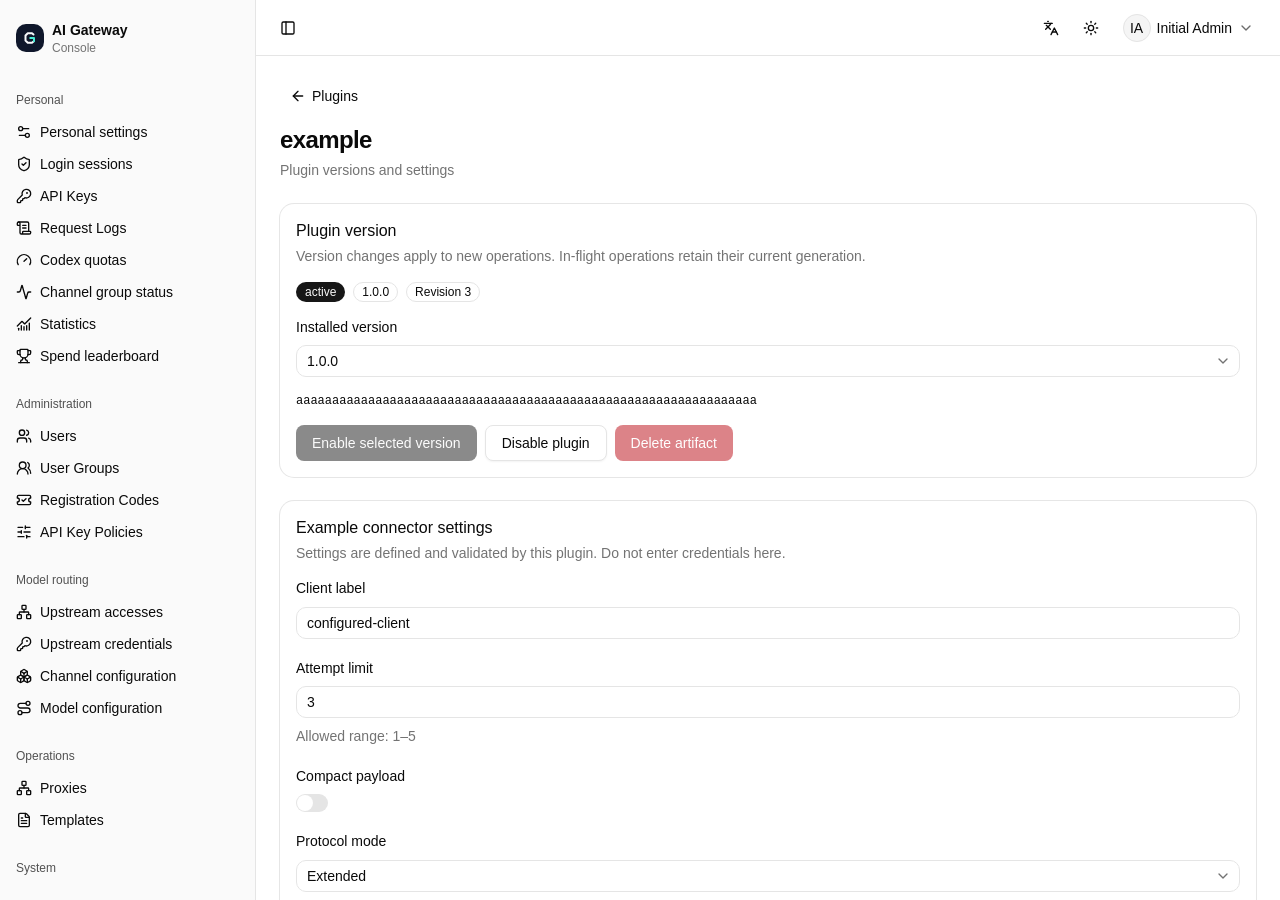
Test: Plugin management › never mutates after failed password verification and clears the password
Click the button "Disable plugin" at x=546, y=443, box [485,425,607,461]
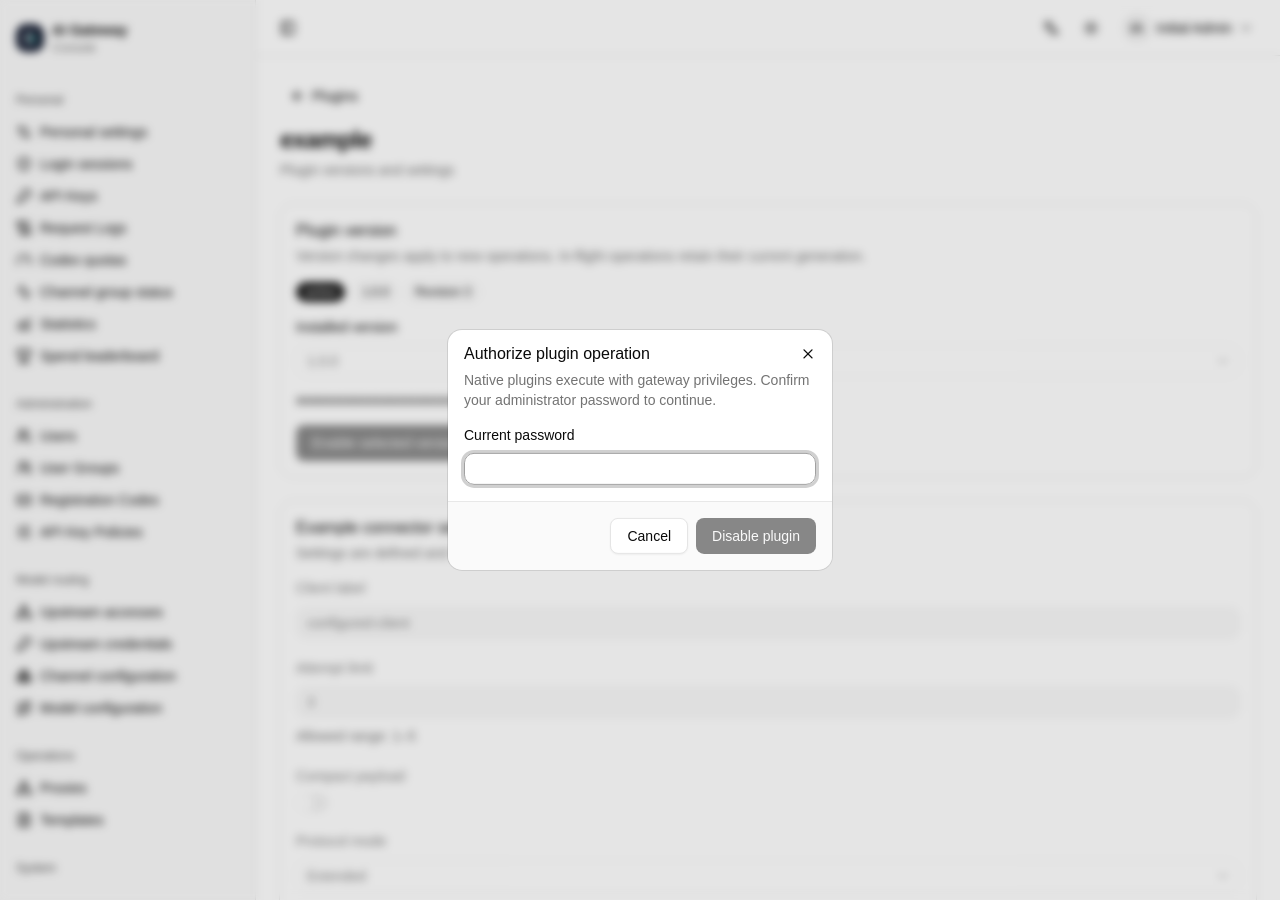
Type "administrator-password" into the password field labelled "Current password" at x=640, y=469, box [464,453,816,485]
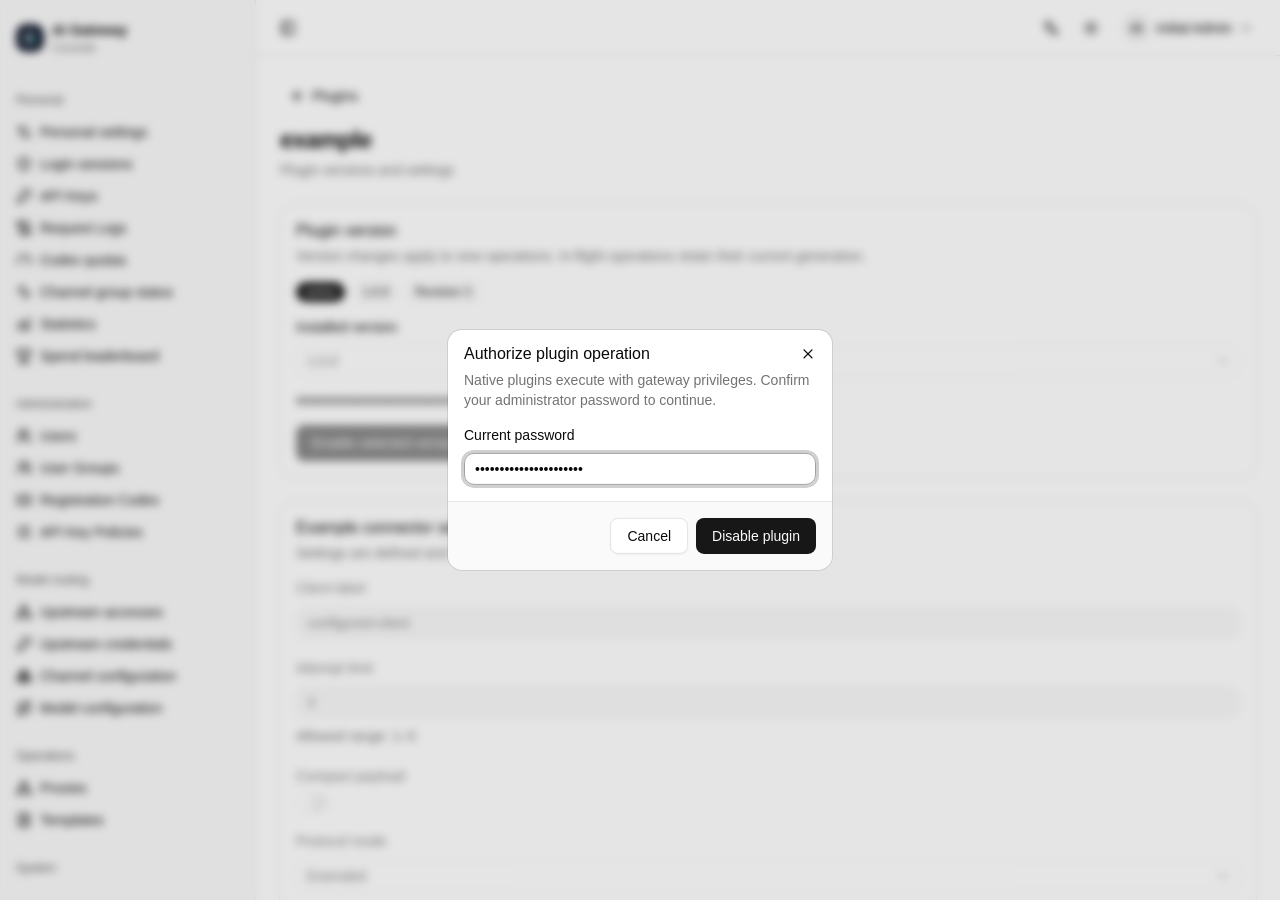
Click the button "Disable plugin" at x=756, y=536, box [696,518,816,554]
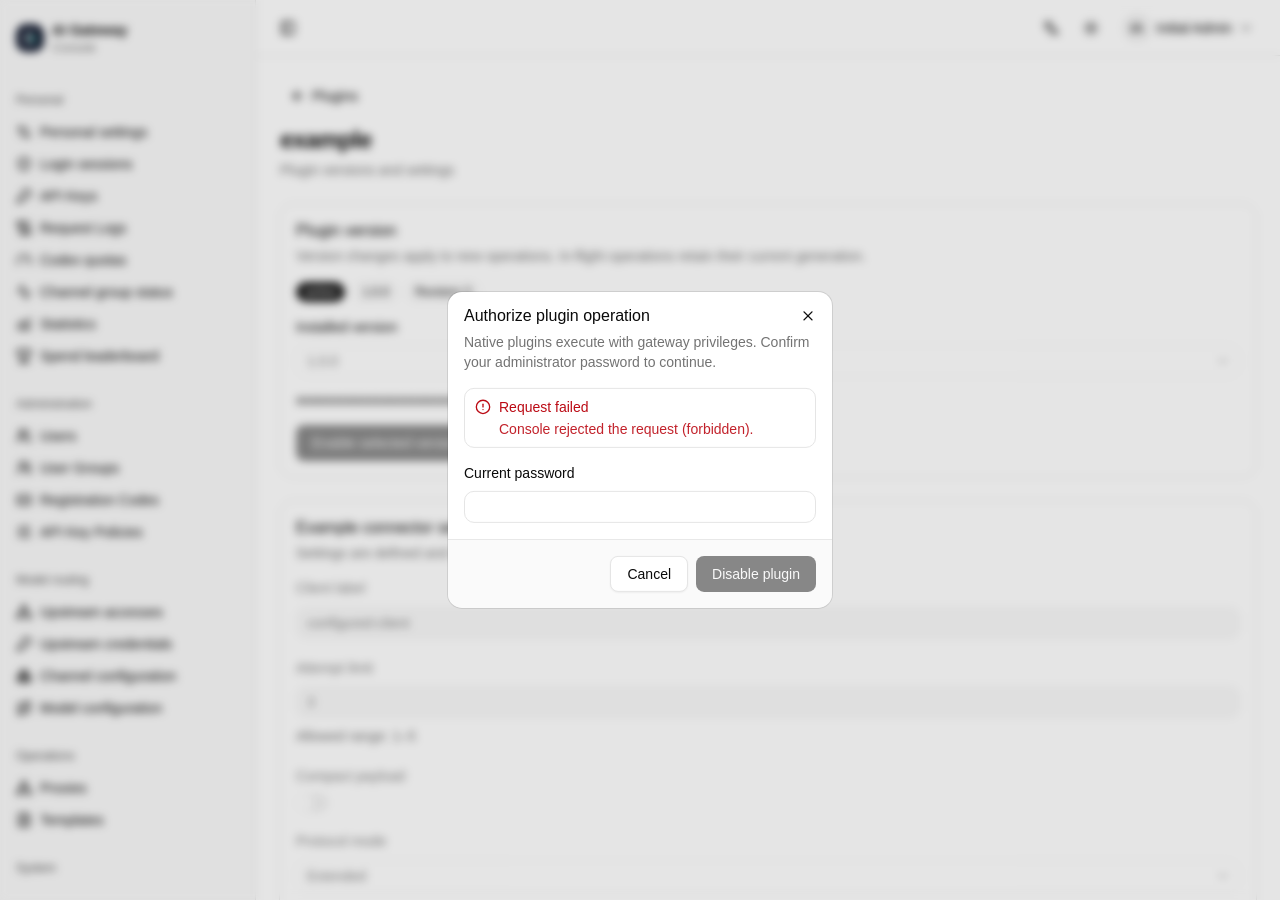
Expected: the text "Console rejected the request (forbidden)." is shown, [499,421,754,437]
Expected: the password field labelled "Current password" is empty, [464,491,816,523]
Click the button "Cancel" at x=649, y=574, box [610,556,688,592]
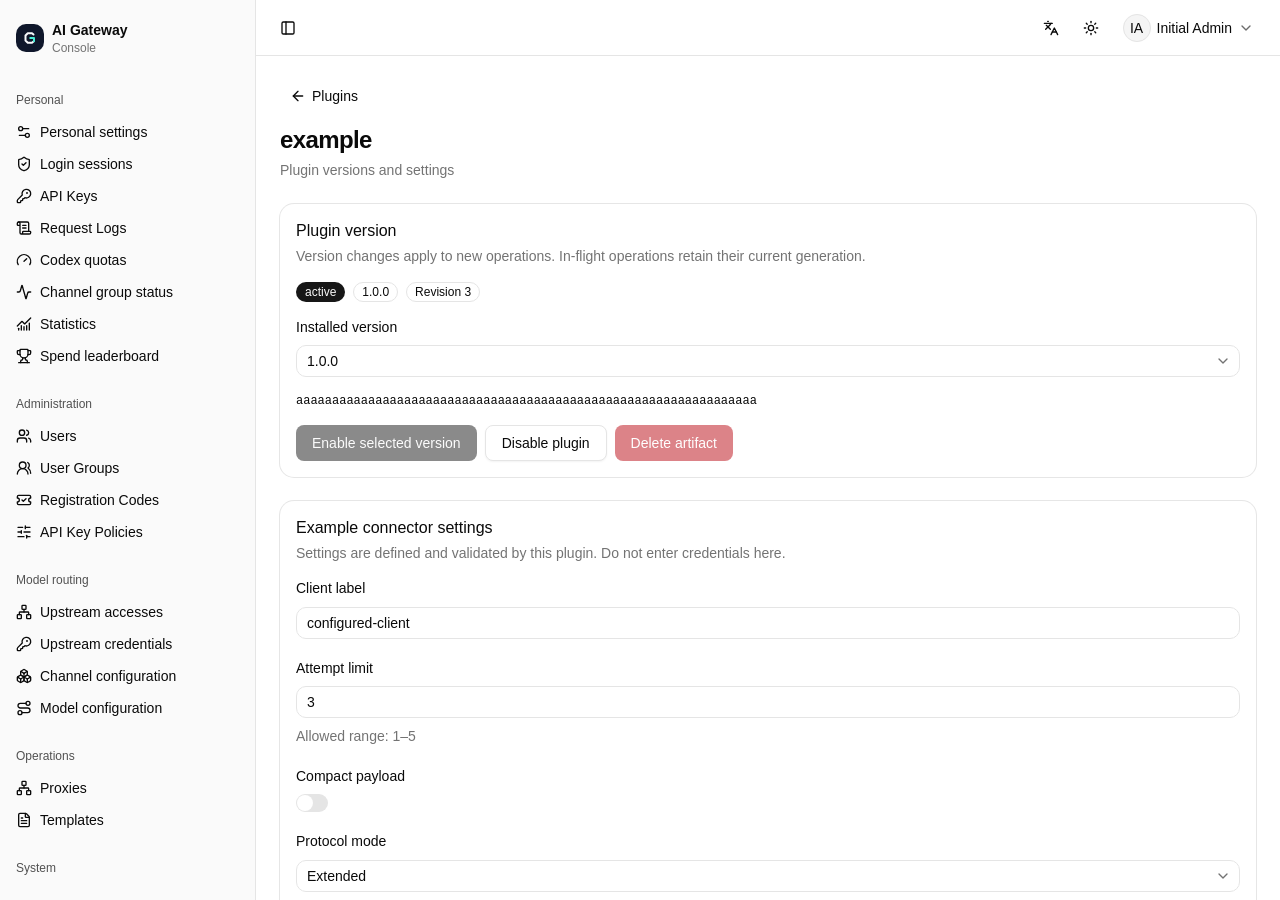
Expected: the dialog is gone
